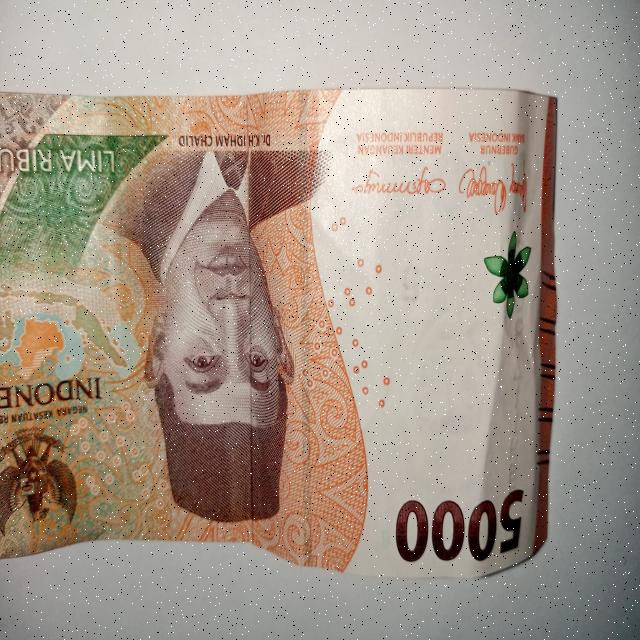5K: (0, 80, 567, 590)
